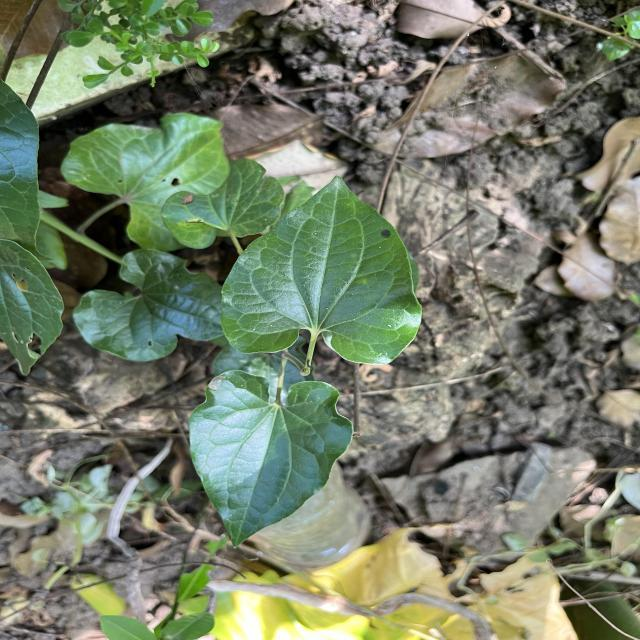Piper longum: (217, 174, 424, 367), (185, 367, 355, 554)
